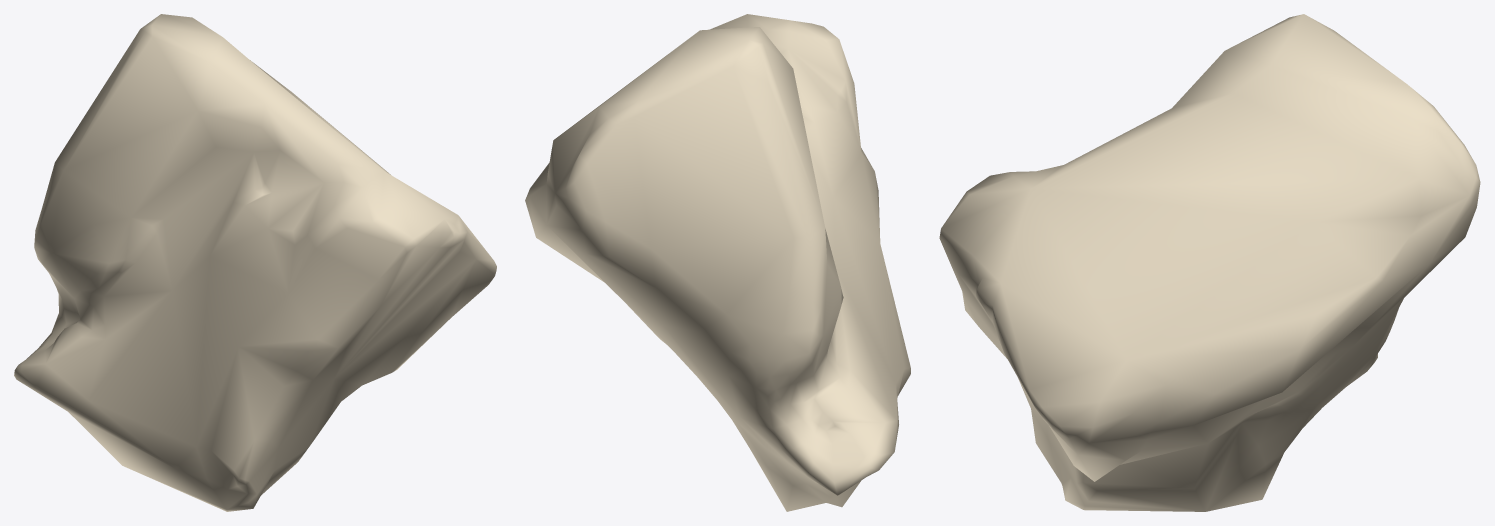
File: lateral-cuneiform-bone-l.glb
3 renders of one model, left to right at view 1: azimuth 30°, elevation 25°; view 2: azimuth 150°, elevation 25°; view 3: azimuth 270°, elevation 25°, orthographic. The views are drawn at different scales.
Visible parts, largest first — view 1: Lateral cuneiform bone.l; view 2: Lateral cuneiform bone.l; view 3: Lateral cuneiform bone.l.
Boxes of the visible parts, x1,y1,x2,y2 form: Lateral cuneiform bone.l: (14,14,496,511); Lateral cuneiform bone.l: (525,14,910,511); Lateral cuneiform bone.l: (939,14,1480,511).
Bounding box in the file's own units: 0.0242 × 0.0269 × 0.0265.
